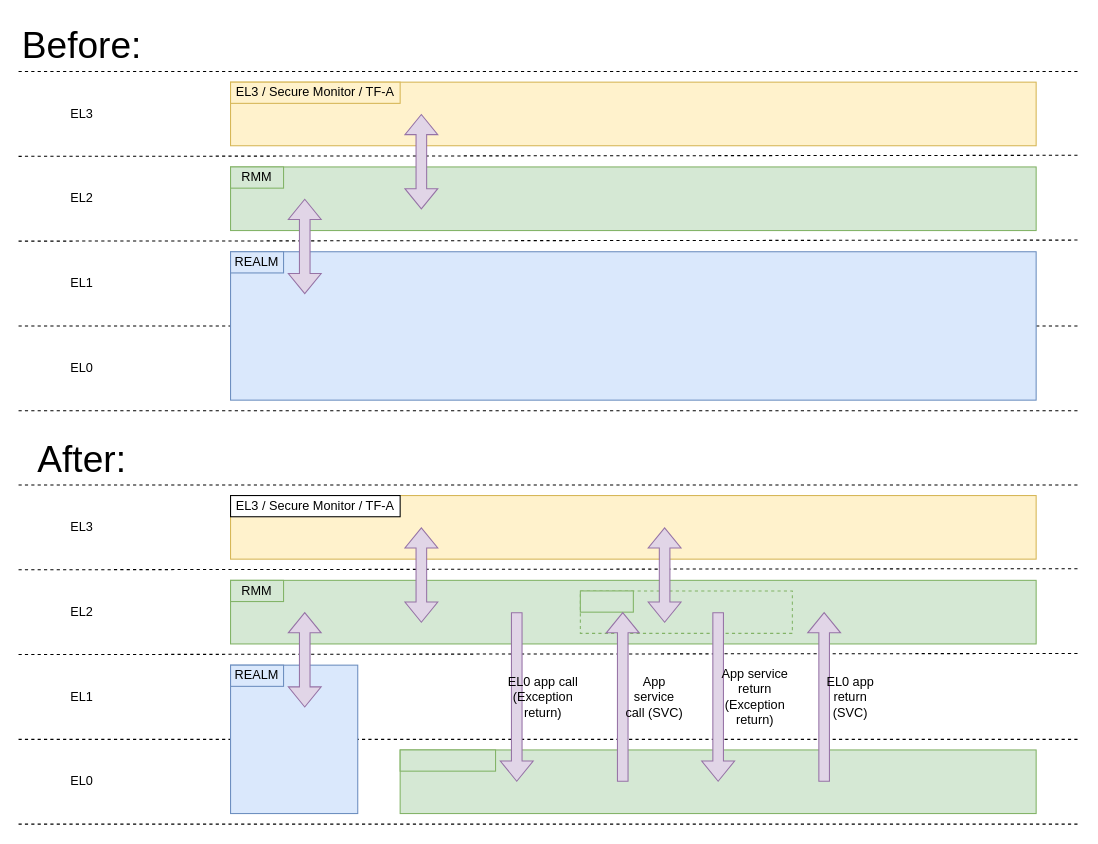
This 1098x844 diagram has some shape labels left out. Each missing label, with the centre of its shape:
RMM EL0 App: point (447, 760)
services: point (606, 601)
